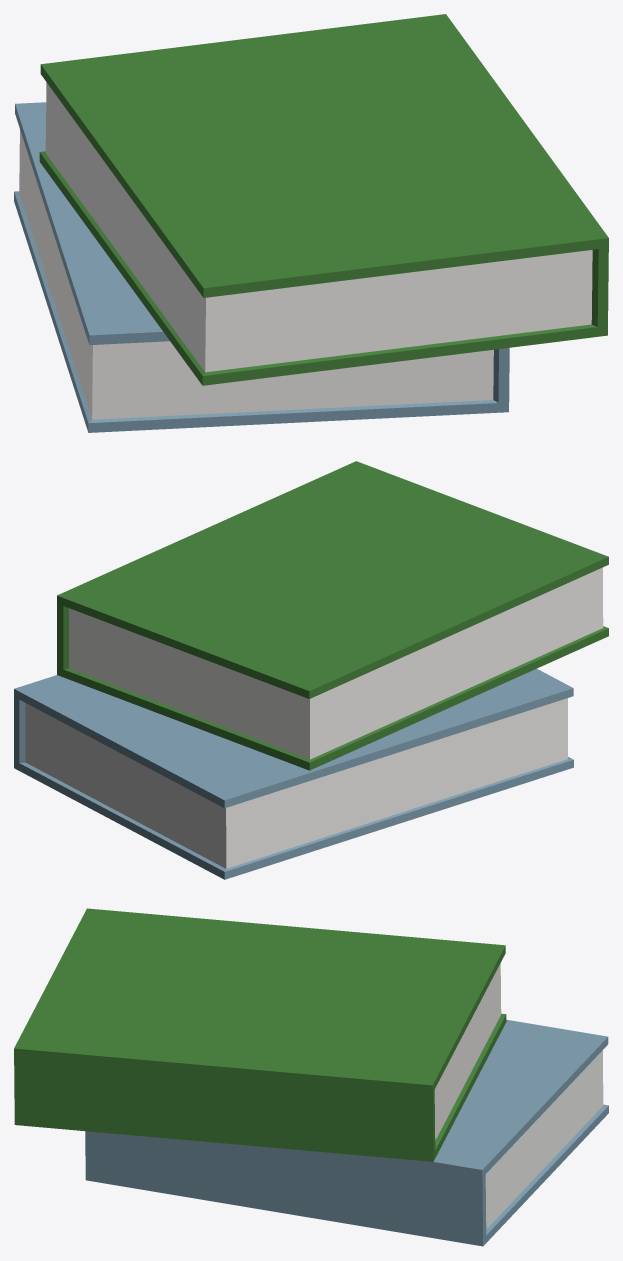
The model's file is Books_10.fbx.
3 renders of one model, top to bottom at view 1: azimuth 30°, elevation 25°; view 2: azimuth 150°, elevation 25°; view 3: azimuth 270°, elevation 25°, orthographic. The views are drawn at different scales.
Parts seen in each view (by area): view 1: Books_10; view 2: Books_10; view 3: Books_10.
Part boxes in pixels (box(x1,y1,x2,y2)): Books_10: box(14, 14, 608, 432); Books_10: box(14, 461, 608, 879); Books_10: box(14, 908, 608, 1246).
Bounding box in the file's own units: 37.16 × 46.92 × 13.75.
